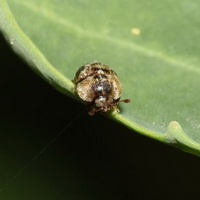insect: (73, 63, 129, 115)
